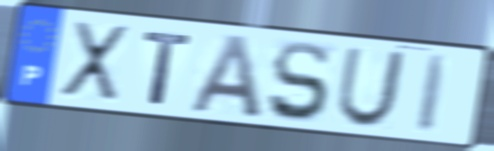A: (185, 32, 265, 121)
I: (414, 52, 452, 137)
S: (265, 38, 332, 125)
T: (141, 28, 196, 108)
U: (334, 45, 410, 130)
X: (56, 18, 132, 107)
